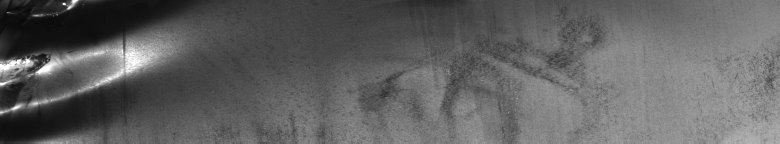ke: (60, 0, 140, 144)
